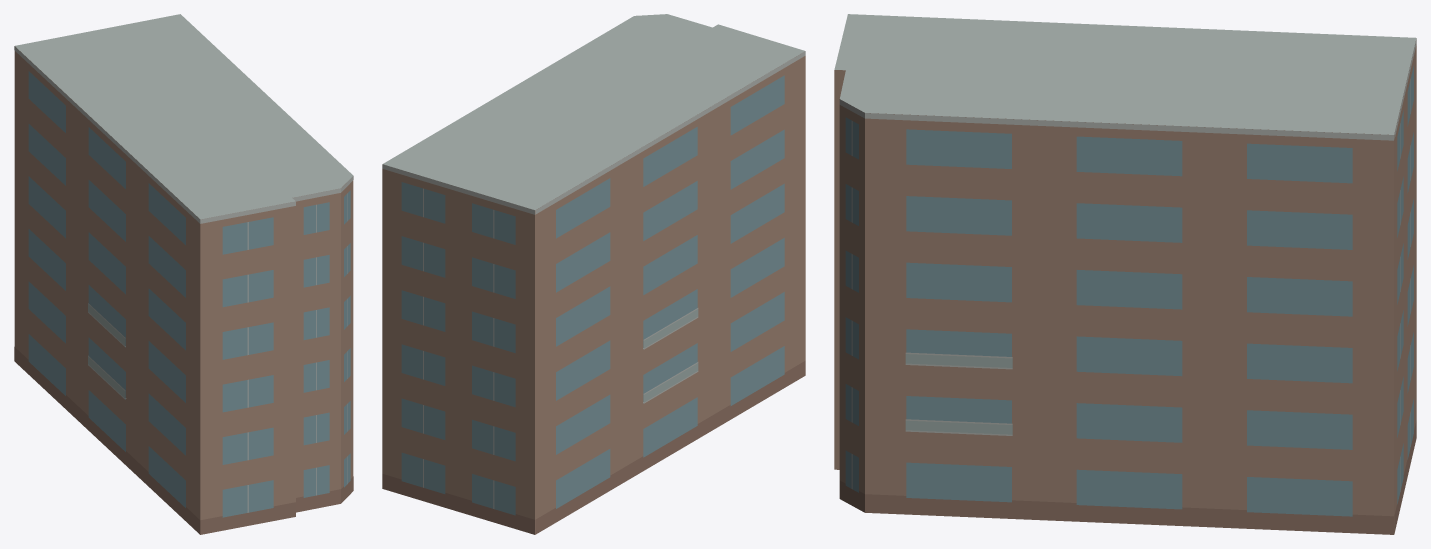
File: survey-upis-32566372.glb
The picture shows the model from 3 angles, left to right: view 1: azimuth 30°, elevation 25°; view 2: azimuth 150°, elevation 25°; view 3: azimuth 270°, elevation 25°; orthographic projection. The views are drawn at different scales.
Visible parts, largest first — view 1: survey-upis-32566372.tmp; view 2: survey-upis-32566372.tmp; view 3: survey-upis-32566372.tmp.
Boxes of the visible parts, x1,y1,x2,y2 form: survey-upis-32566372.tmp: (14, 14, 353, 534); survey-upis-32566372.tmp: (382, 14, 805, 534); survey-upis-32566372.tmp: (834, 14, 1416, 534).
Bounding box in the file's own units: 11.11 × 17.1 × 22.57.
